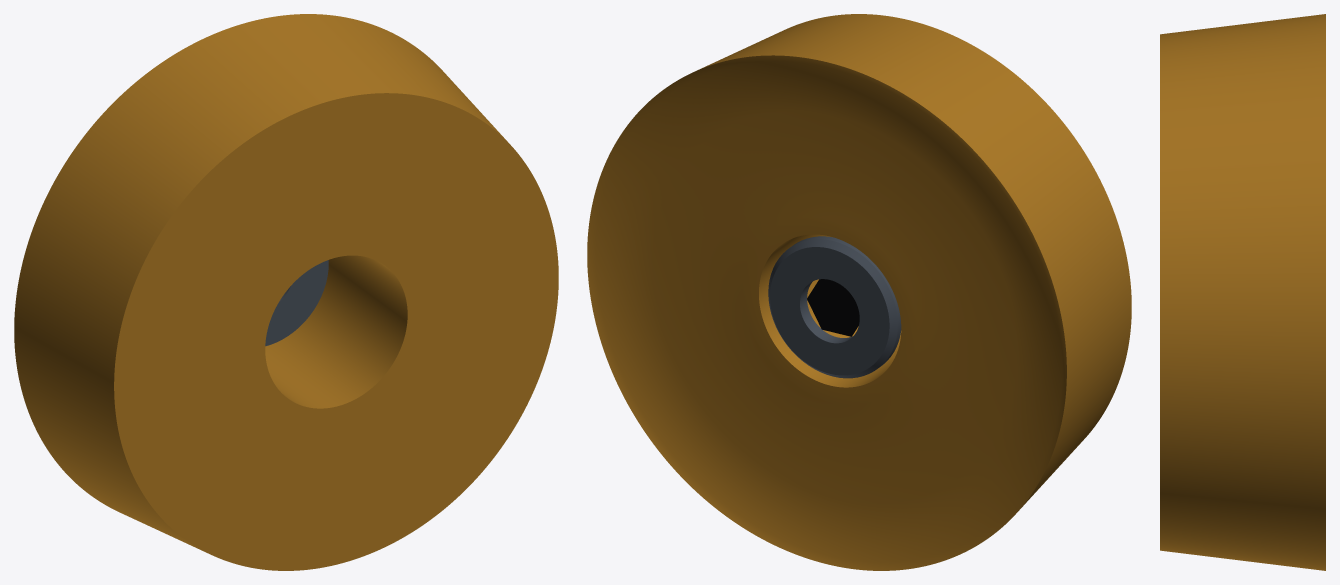
The model's file is wheel_insert_32.obj.
3 views of the same model, side by side, from view 1: azimuth 30°, elevation 25°; view 2: azimuth 150°, elevation 25°; view 3: azimuth 270°, elevation 25° (orthographic).
Visible parts, largest first — view 1: RCMX_D32_carbide.010, D32_fixing_screw.010; view 2: RCMX_D32_carbide.010, D32_fixing_screw.010, D32_hex_socket.010; view 3: RCMX_D32_carbide.010.
Part boxes in pixels (x1,y1,x2,y2): RCMX_D32_carbide.010: [14, 14, 558, 570]; D32_fixing_screw.010: [265, 260, 328, 346]; RCMX_D32_carbide.010: [587, 14, 1131, 570]; D32_fixing_screw.010: [768, 236, 901, 378]; D32_hex_socket.010: [807, 279, 859, 336]; RCMX_D32_carbide.010: [1160, 14, 1325, 570].
Bounding box in the file's own units: 32 × 32 × 9.52.
